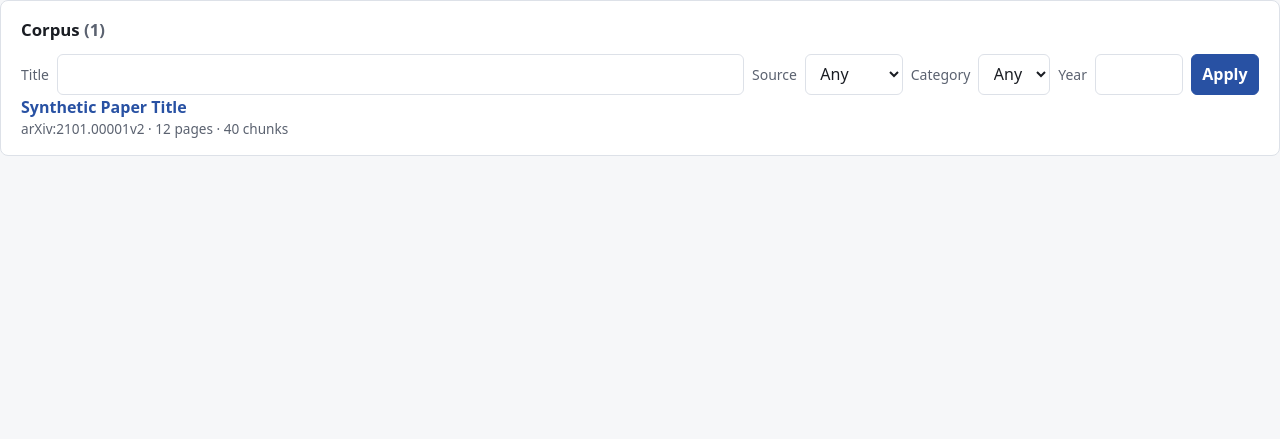
Test: CorpusView › requires confirmation before deleting a paper
The image size is (1280, 439).
Step 1. Click the button "Synthetic Paper Title" → click(104, 107), box [21,95,1259,119]
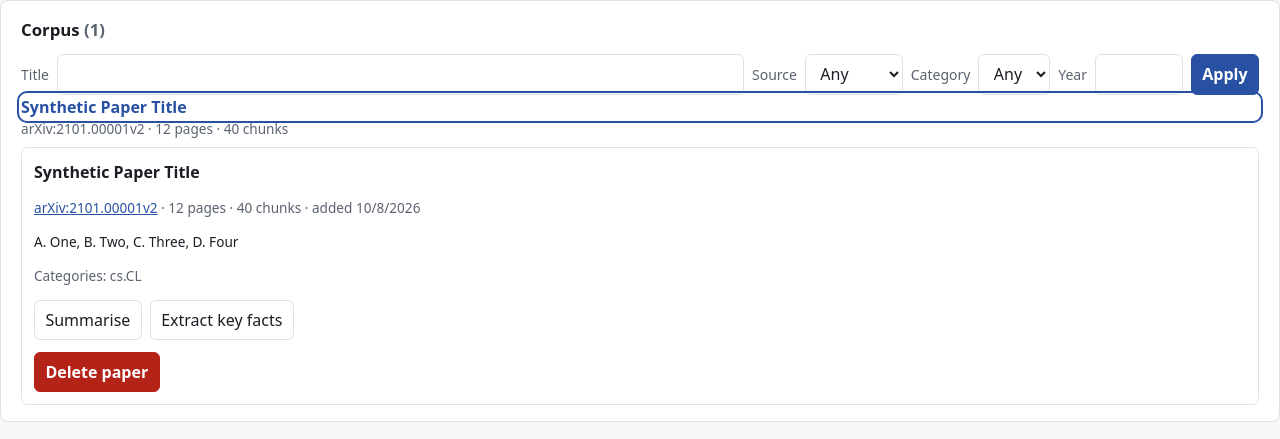
Step 2. Click the button "Delete paper" → click(97, 372), box [34,352,160,392]
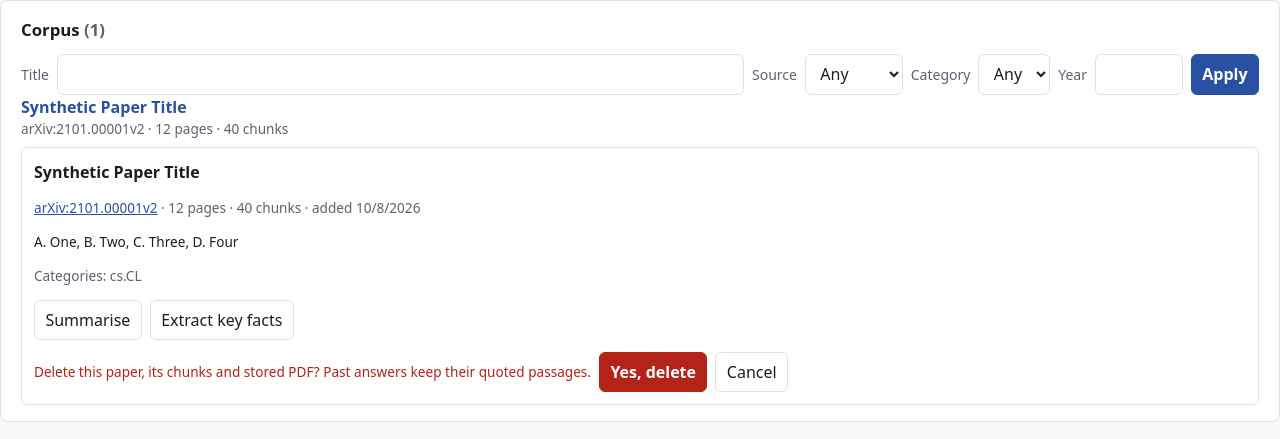
Step 3. Click the button "Yes, delete" → click(653, 372), box [599,352,707,392]
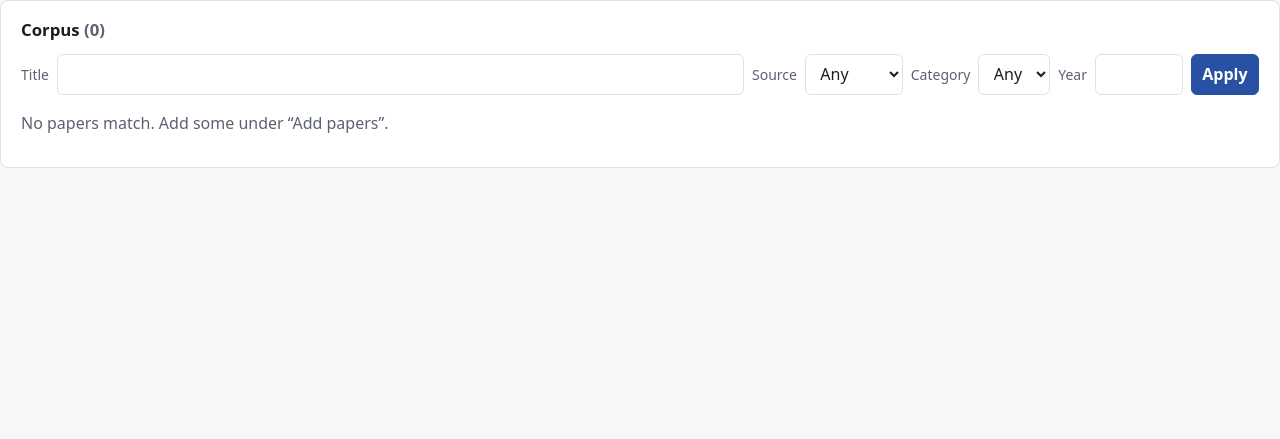
Check: the text "No papers match. Add some under “Add papers”." is shown, box [21,112,388,134]
